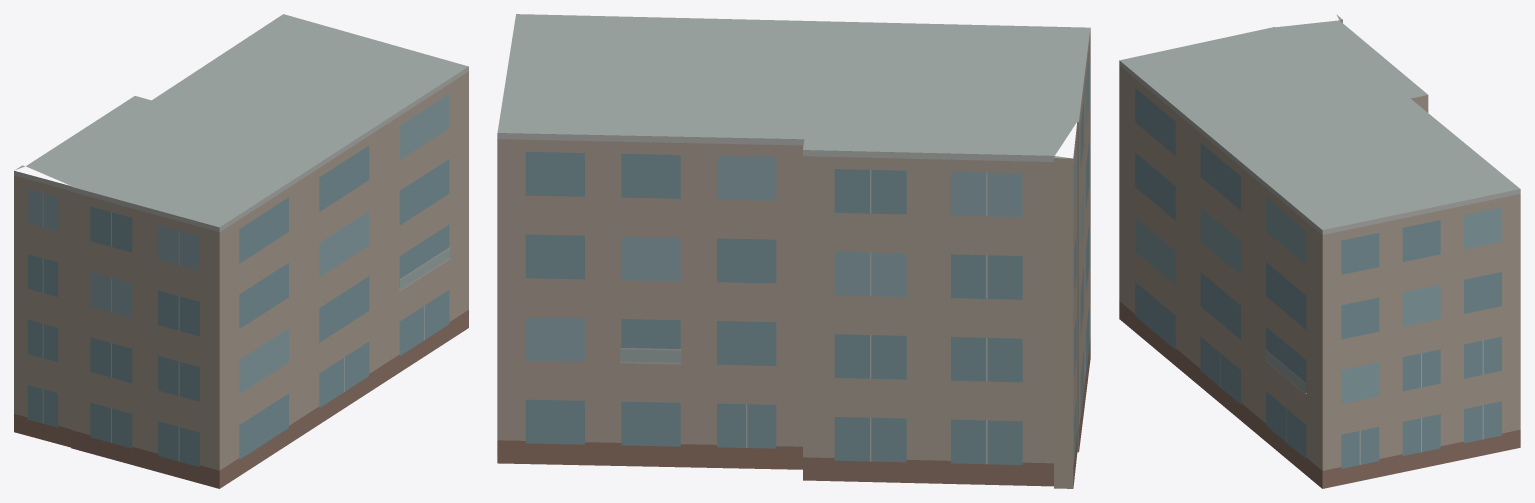
File: survey-upis-32837037.glb
3 renders of one model, left to right at view 1: azimuth 30°, elevation 25°; view 2: azimuth 150°, elevation 25°; view 3: azimuth 270°, elevation 25°, orthographic. The views are drawn at different scales.
Visible parts, largest first — view 1: survey-upis-32837037.tmp; view 2: survey-upis-32837037.tmp; view 3: survey-upis-32837037.tmp.
Boxes of the visible parts, x1=… form: survey-upis-32837037.tmp: x1=14, y1=14, x2=468, y2=488; survey-upis-32837037.tmp: x1=497, y1=14, x2=1090, y2=488; survey-upis-32837037.tmp: x1=1119, y1=14, x2=1520, y2=488.
Bounding box in the file's own units: 23.22 × 12.95 × 18.21.
